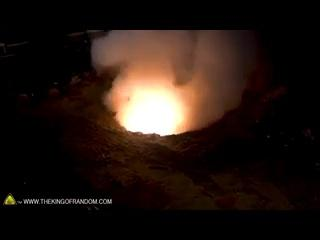Fire: (121, 75, 180, 129)
